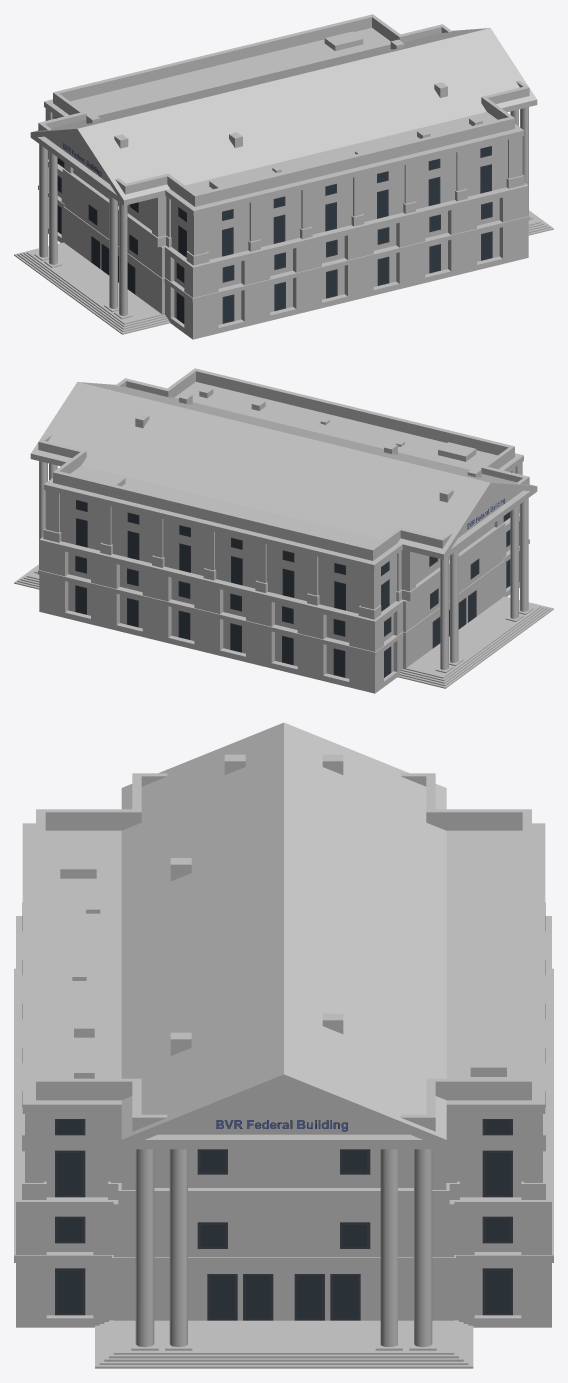
Rendered from BVR Federal Building_Static.FBX.
3 views of the same model, one above another, from view 1: azimuth 30°, elevation 25°; view 2: azimuth 150°, elevation 25°; view 3: azimuth 270°, elevation 25° (orthographic). The views are drawn at different scales.
Visible parts, largest first — view 1: BVR Federal Building_Static; view 2: BVR Federal Building_Static; view 3: BVR Federal Building_Static.
Boxes of the visible parts, x1,y1,x2,y2 form: BVR Federal Building_Static: [14, 14, 553, 339]; BVR Federal Building_Static: [14, 368, 553, 693]; BVR Federal Building_Static: [14, 722, 553, 1368].
Bounding box in the file's own units: 12.1 × 4.4 × 7.52.
